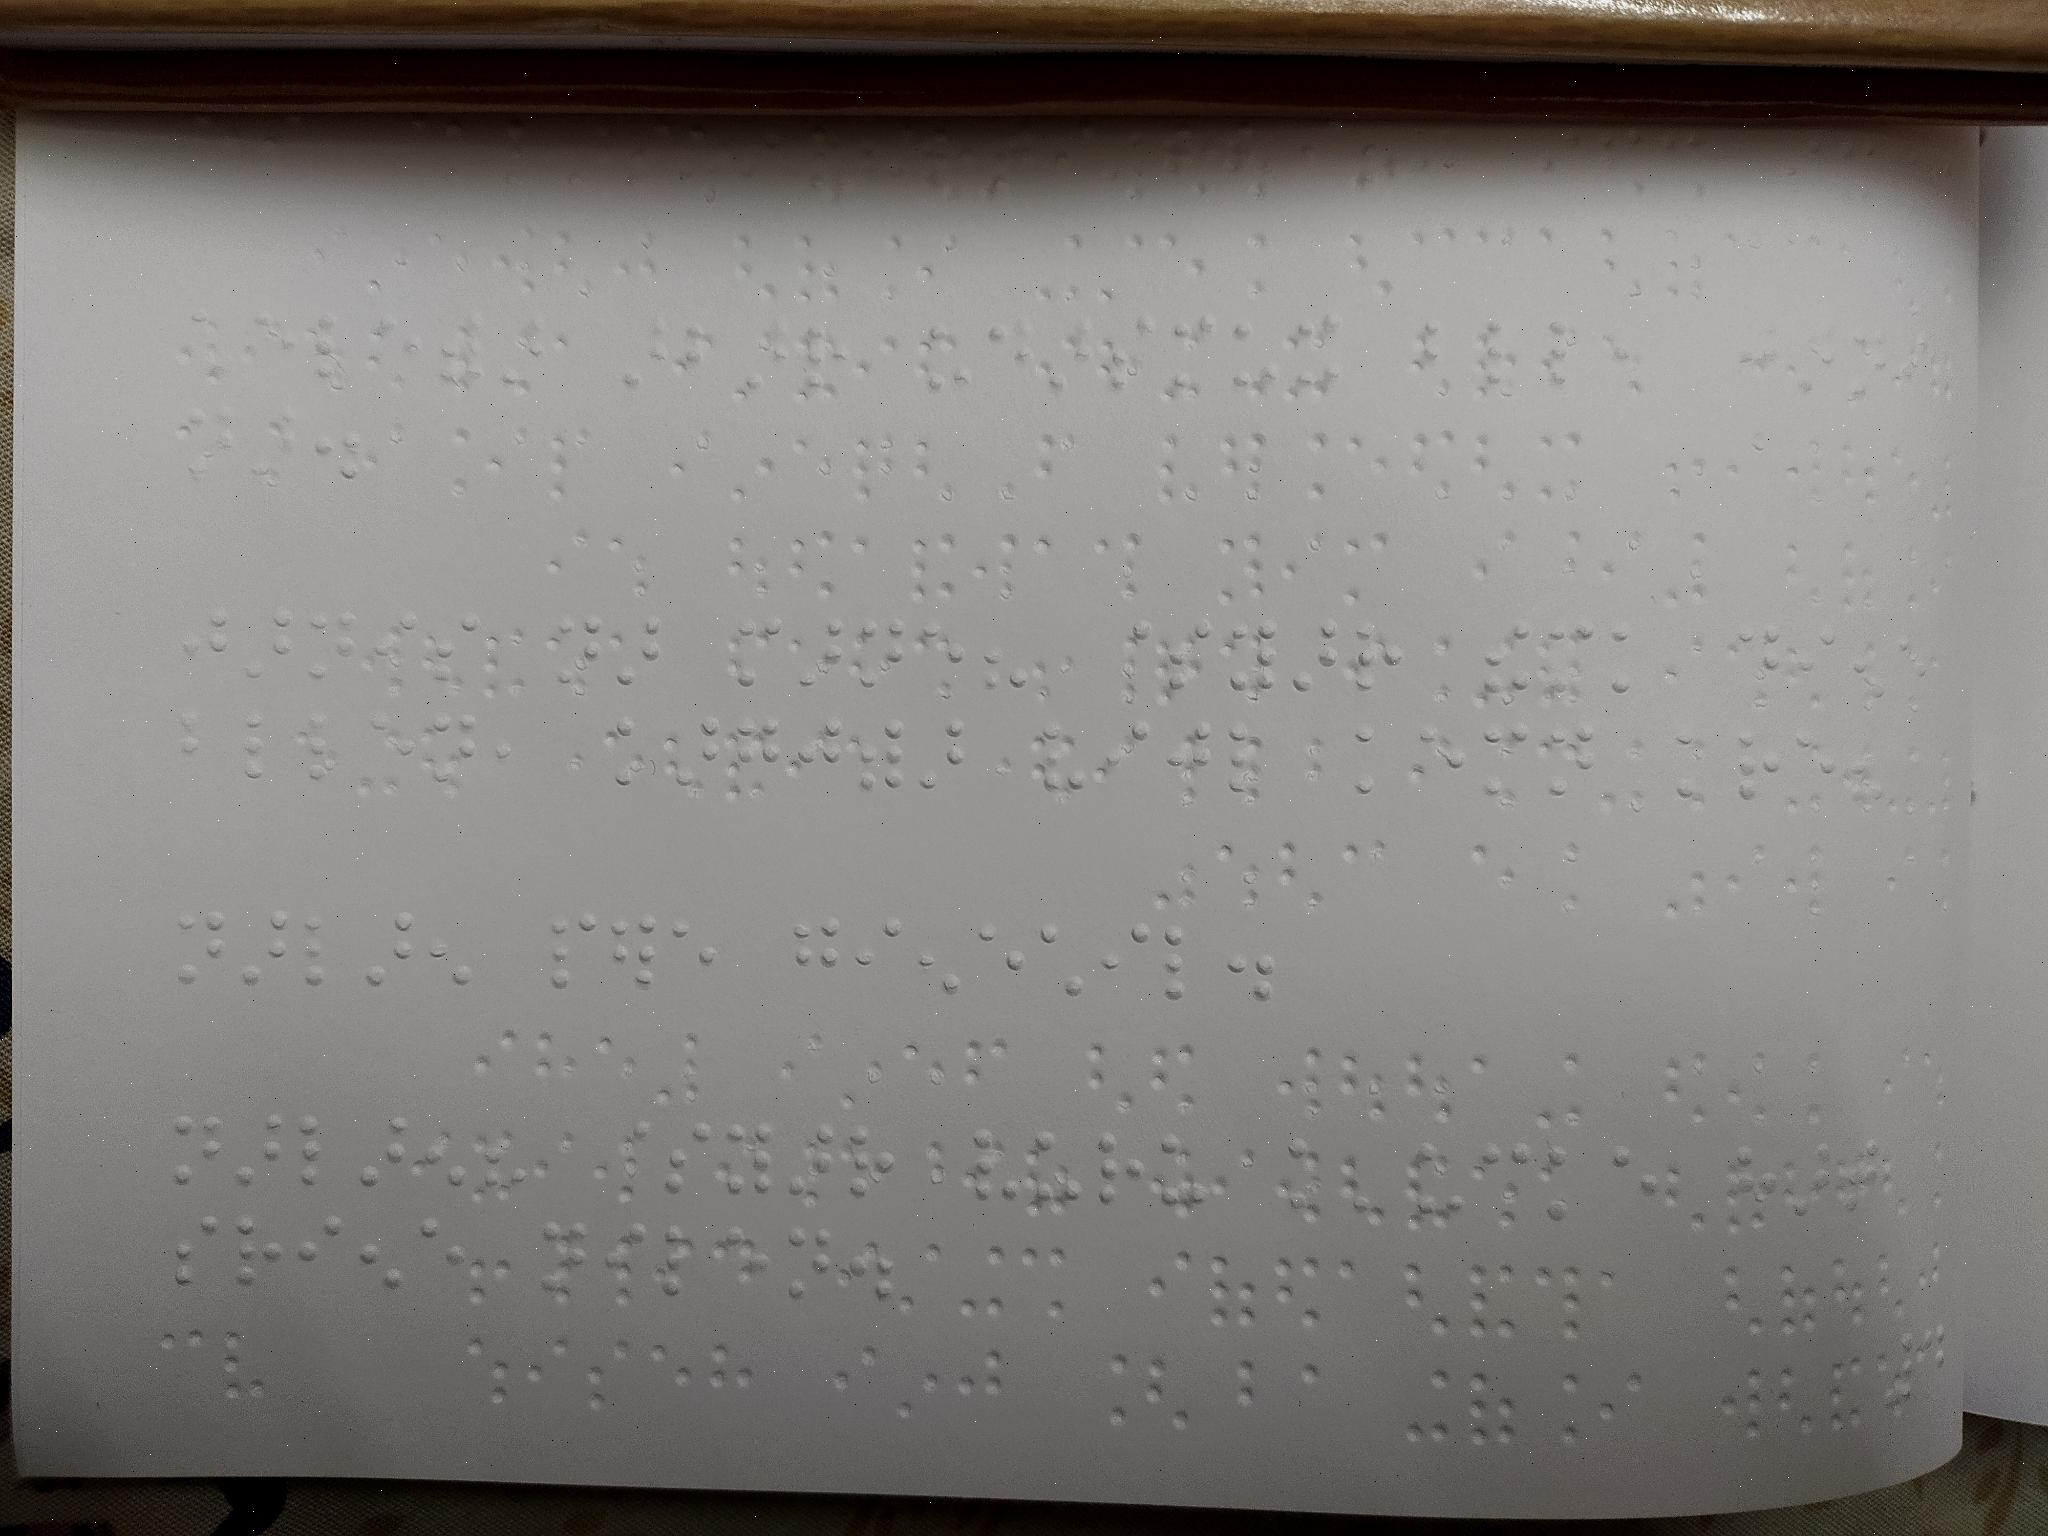a: (356, 904, 424, 999), (352, 1099, 416, 1196), (234, 899, 297, 992), (619, 308, 677, 403), (244, 395, 300, 486), (1290, 611, 1348, 699), (916, 715, 977, 797), (234, 1102, 290, 1187), (244, 603, 298, 691), (668, 708, 726, 791), (1047, 311, 1103, 395), (613, 608, 669, 692), (497, 300, 548, 390), (1793, 310, 1843, 402), (742, 315, 795, 400), (785, 1115, 837, 1202), (792, 615, 847, 692), (1788, 1141, 1837, 1221)
b: (171, 697, 229, 778), (1419, 311, 1471, 390), (681, 316, 726, 390)
bh: (968, 1120, 1030, 1213), (1037, 712, 1095, 794)
ch: (1474, 1137, 1534, 1226)
chh: (181, 302, 247, 397), (1032, 918, 1093, 1007)
d: (982, 315, 1043, 389), (1735, 623, 1790, 694)
dh: (1472, 611, 1542, 705)
e: (360, 702, 426, 789), (1601, 1136, 1664, 1226), (711, 1220, 777, 1305), (666, 913, 729, 997), (410, 1212, 471, 1289), (1413, 716, 1472, 794), (252, 302, 305, 387), (1792, 718, 1846, 800), (919, 608, 972, 691), (369, 308, 424, 386), (974, 916, 1026, 995), (1895, 623, 1945, 702)
g: (789, 912, 850, 995), (731, 707, 789, 787)
h: (1730, 1139, 1784, 1231)
i: (368, 607, 431, 687), (1100, 715, 1158, 802), (848, 907, 906, 992), (593, 1212, 650, 1297), (293, 1210, 347, 1296), (1100, 921, 1155, 1004), (1895, 328, 1945, 410), (1798, 623, 1846, 699)
j: (1159, 710, 1221, 805), (722, 1113, 784, 1205), (173, 595, 235, 681), (1732, 315, 1793, 399), (792, 708, 850, 792), (1226, 616, 1284, 697)
k: (610, 708, 666, 799), (1347, 718, 1401, 800), (1669, 721, 1722, 805), (1542, 1141, 1595, 1225), (1285, 1126, 1330, 1221), (1603, 620, 1653, 700)
kh: (1292, 310, 1355, 395)
l: (651, 1218, 708, 1305), (295, 1102, 347, 1196), (235, 700, 290, 787), (1229, 715, 1282, 803), (302, 905, 355, 994), (1535, 311, 1595, 389), (313, 303, 363, 390), (1476, 315, 1530, 390), (298, 705, 350, 784), (1158, 923, 1208, 1002)
m: (1166, 307, 1222, 400), (1482, 715, 1535, 803), (731, 611, 790, 689), (1546, 618, 1595, 707)
n: (169, 1104, 231, 1200), (532, 1215, 595, 1305), (184, 397, 240, 495), (166, 897, 226, 989), (426, 700, 482, 797), (1540, 718, 1603, 802), (305, 605, 366, 686), (858, 613, 919, 694), (555, 607, 606, 694), (789, 1220, 842, 1304), (1850, 324, 1888, 402)
p: (542, 904, 601, 991)
r: (800, 315, 863, 407), (603, 910, 666, 995), (842, 1118, 900, 1208), (1343, 615, 1408, 695), (1090, 1125, 1148, 1207), (229, 1212, 289, 1291), (1732, 718, 1787, 803)
s: (1105, 310, 1161, 395), (1164, 611, 1218, 702), (171, 1207, 226, 1294), (435, 608, 484, 695), (663, 1118, 714, 1199)
t: (432, 303, 490, 392), (1835, 1134, 1884, 1217), (858, 720, 908, 792)
u: (1153, 1126, 1213, 1218), (1229, 311, 1288, 397), (1029, 1120, 1084, 1207), (1414, 1134, 1469, 1221), (922, 319, 977, 397)
y: (424, 900, 490, 1000), (910, 905, 971, 1002), (350, 1215, 410, 1302), (414, 1113, 474, 1196), (1850, 623, 1895, 703)
